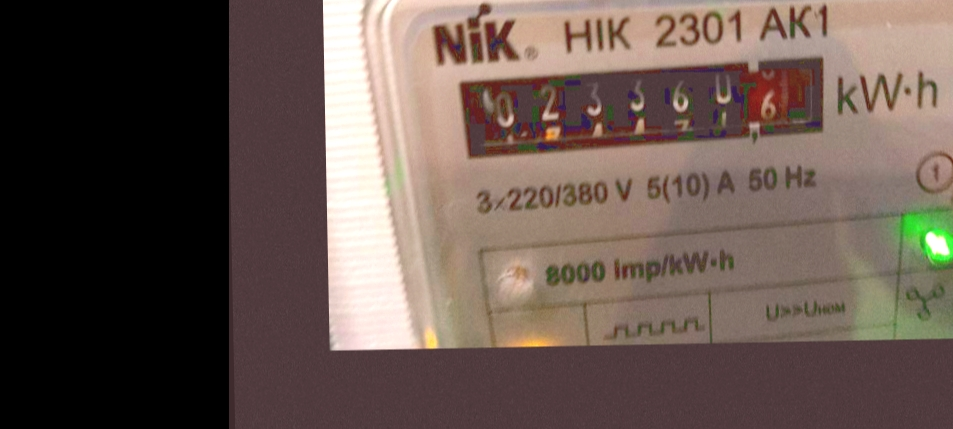0: (491, 87, 517, 130), (711, 68, 735, 106)
2: (535, 80, 562, 121)
3: (582, 78, 604, 118), (624, 75, 647, 113)
6: (666, 74, 693, 115), (758, 86, 780, 123)
screen: (436, 42, 840, 168)
